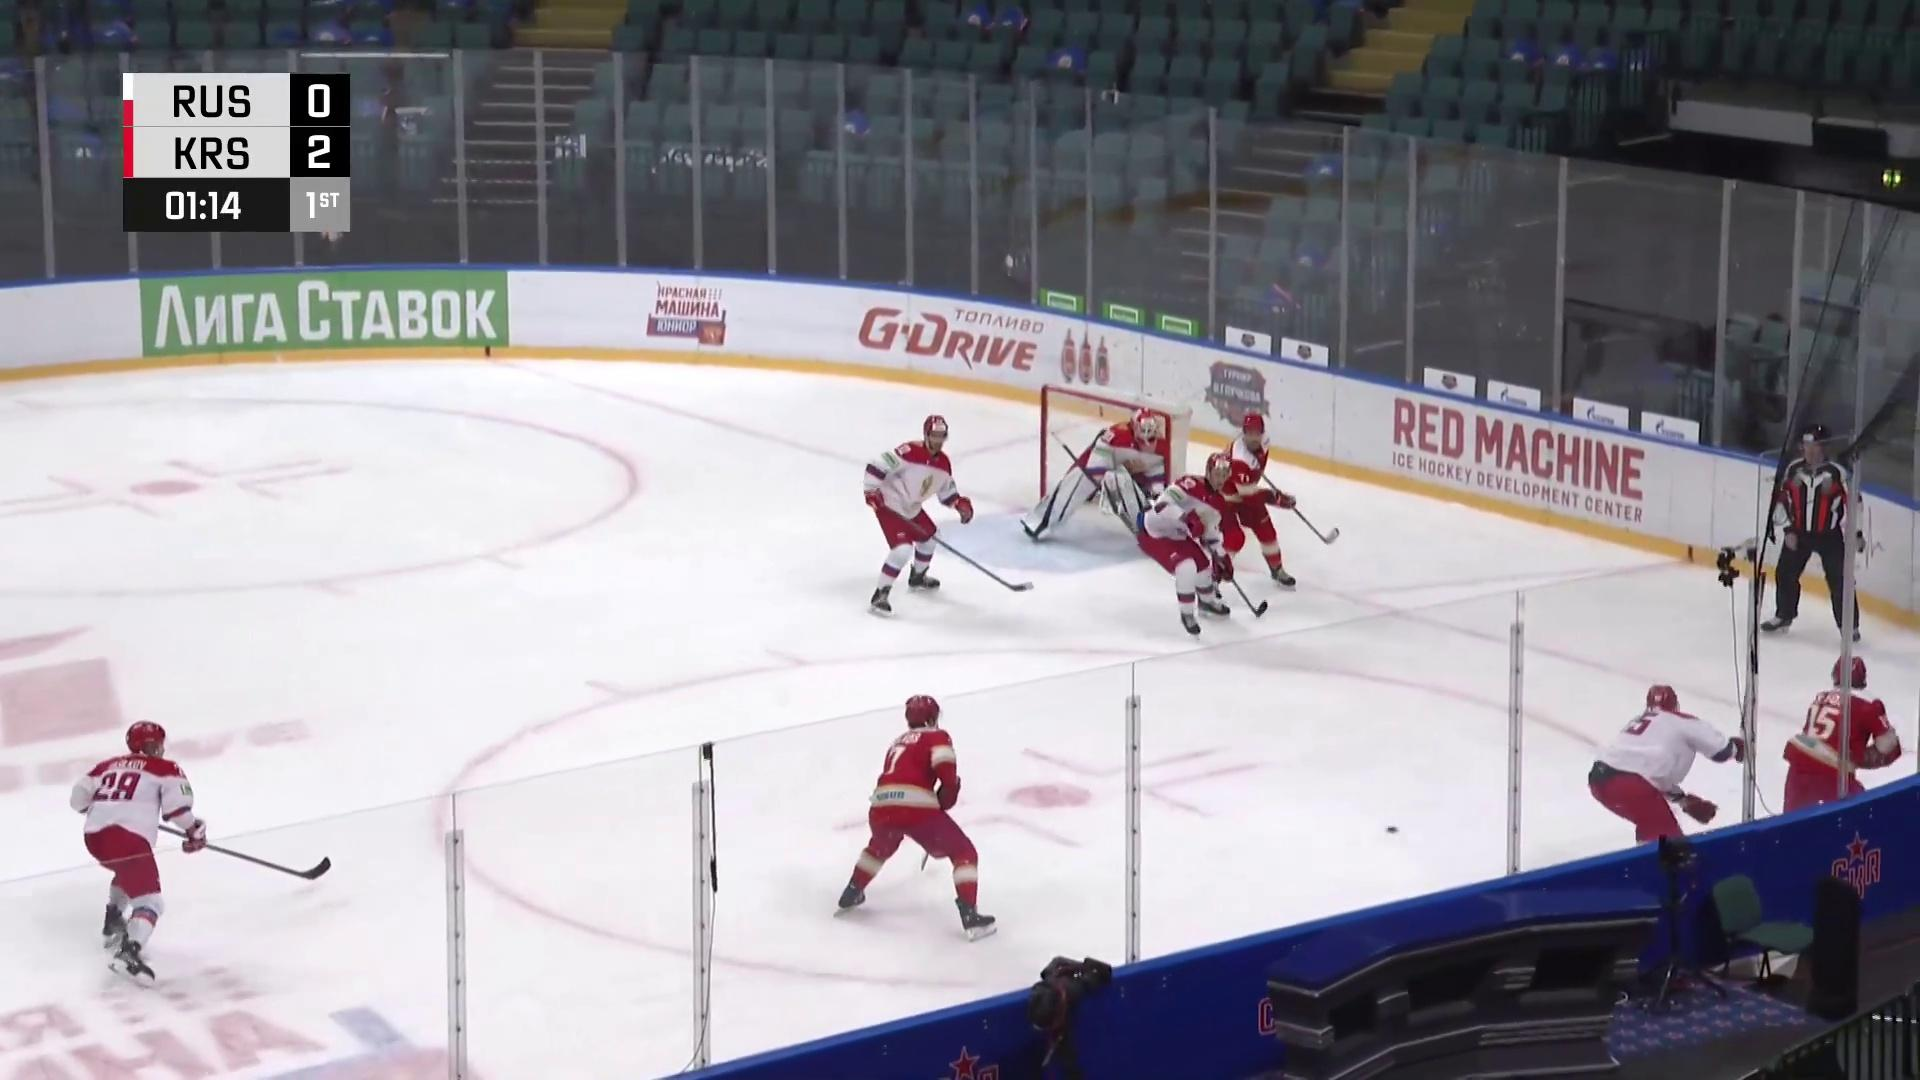ball: (1386, 824, 1402, 836)
